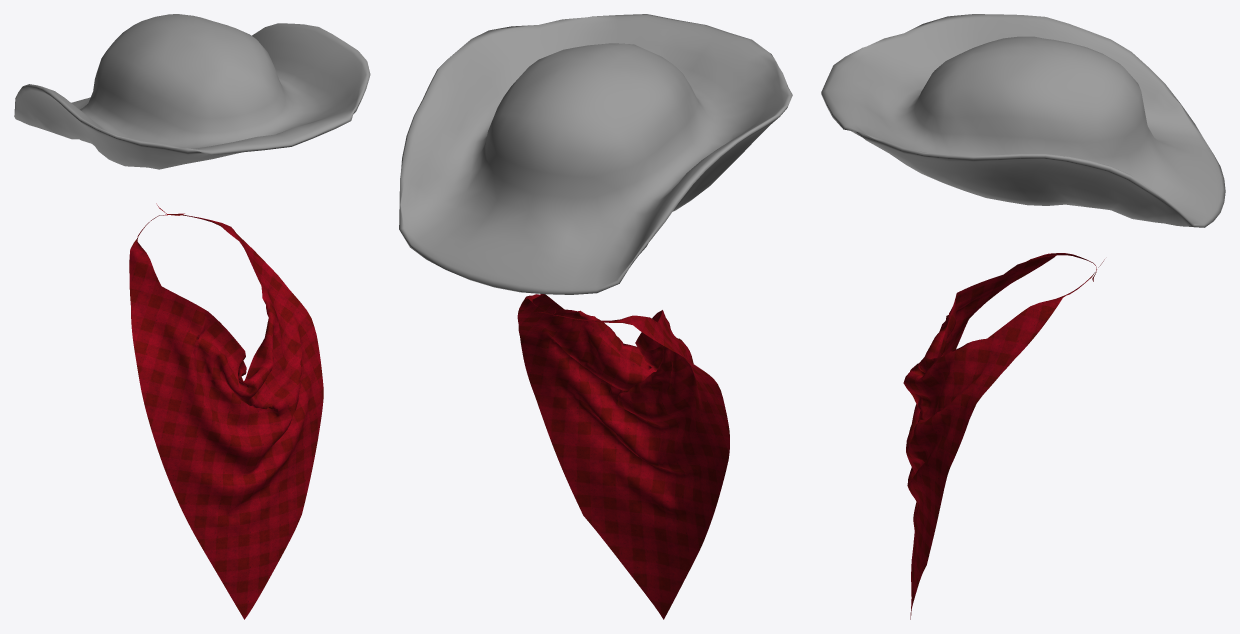
The model's file is cuellera.FBX.
3 renders of one model, left to right at view 1: azimuth 30°, elevation 25°; view 2: azimuth 150°, elevation 25°; view 3: azimuth 270°, elevation 25°, orthographic. The views are drawn at different scales.
Parts seen in each view (by area): view 1: default, Group27264; view 2: Group27264, default; view 3: Group27264, default.
Part boxes in pixels (x1,y1,x2,y2): default: (129,203,323,619); Group27264: (14,14,370,169); Group27264: (399,14,792,294); default: (517,294,729,619); Group27264: (821,14,1225,227); default: (903,253,1104,619).
Bounding box in the file's own units: 160 × 301 × 192.
